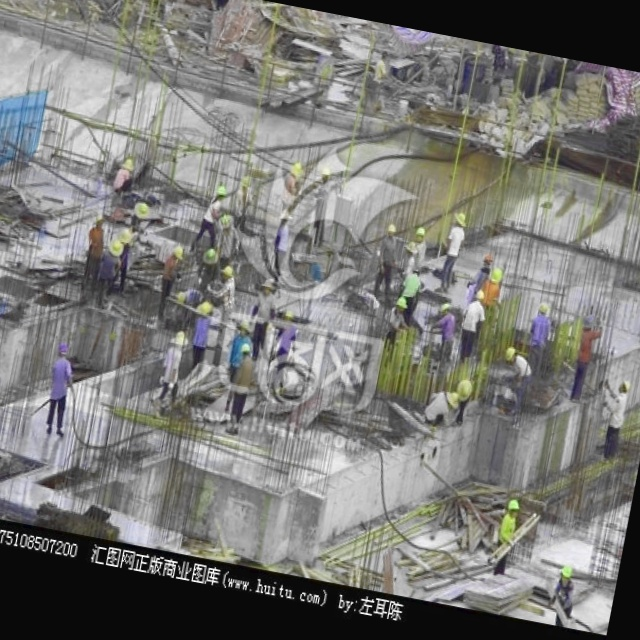Con_Casco: (559, 563, 575, 586), (505, 497, 522, 517), (57, 341, 69, 357)
Sin_Casco_Mascarrilla: (169, 327, 192, 351), (455, 378, 474, 403), (443, 387, 460, 411)
Sin_Chaleco: (45, 356, 74, 404)
